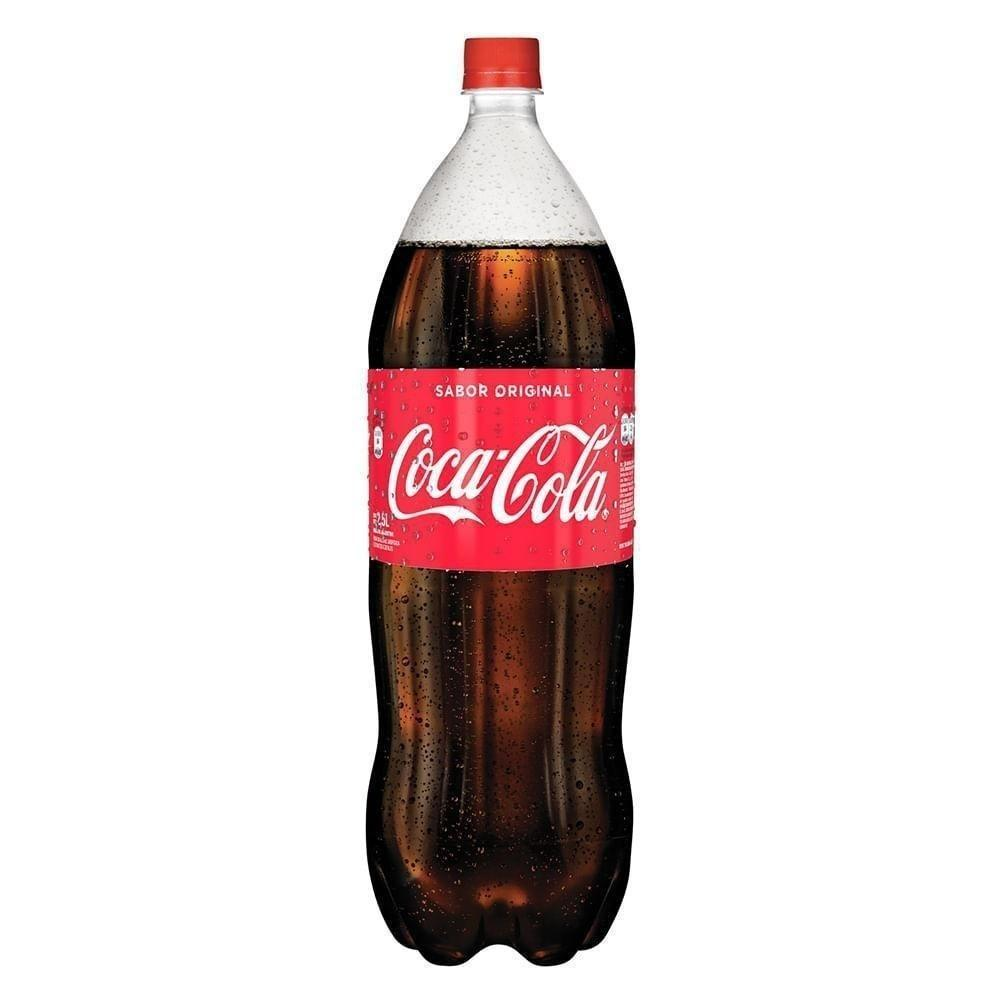bottle-plastic: (357, 25, 648, 981)
